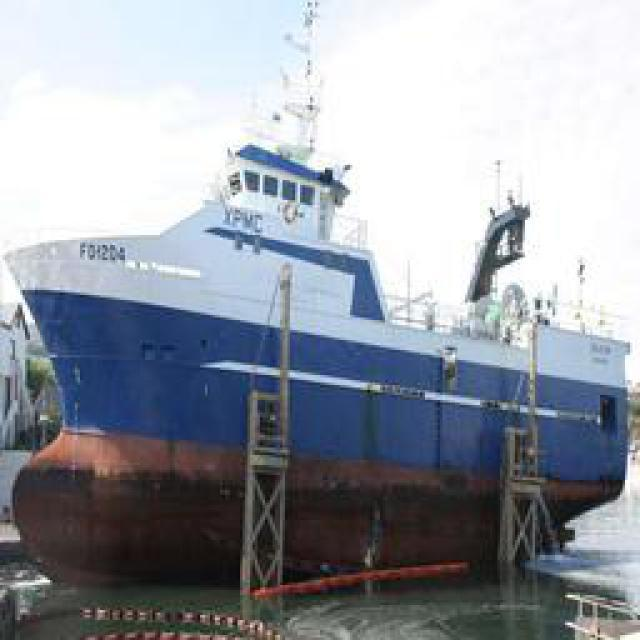Ship: (1, 115, 631, 613)
